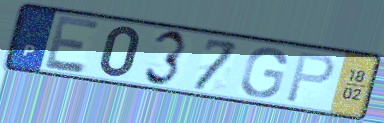0: (96, 25, 143, 79)
3: (141, 29, 194, 88)
7: (191, 37, 241, 92)
E: (43, 13, 104, 76)
G: (238, 46, 289, 99)
P: (283, 51, 338, 105)
